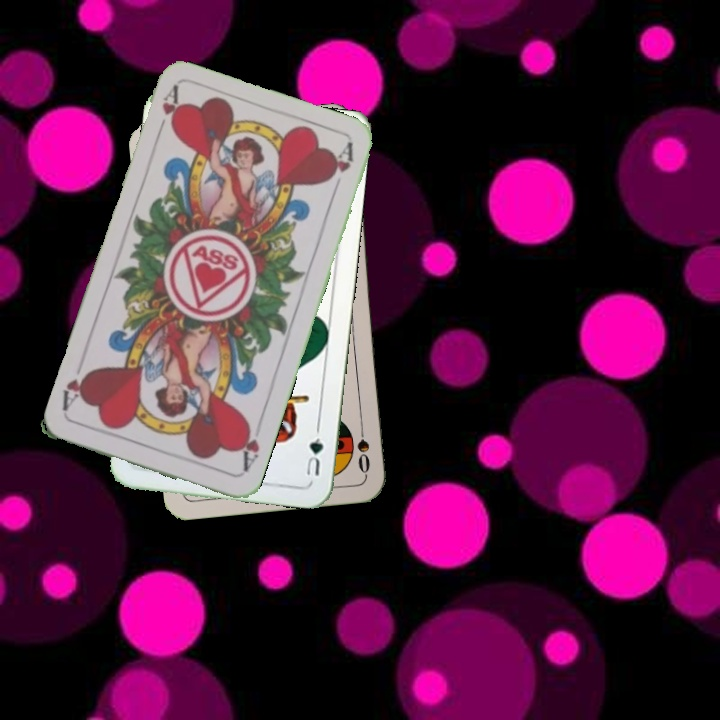GU: (302, 433, 326, 479)
HA: (152, 83, 182, 140), (235, 418, 262, 475)
SO: (353, 417, 372, 476)
